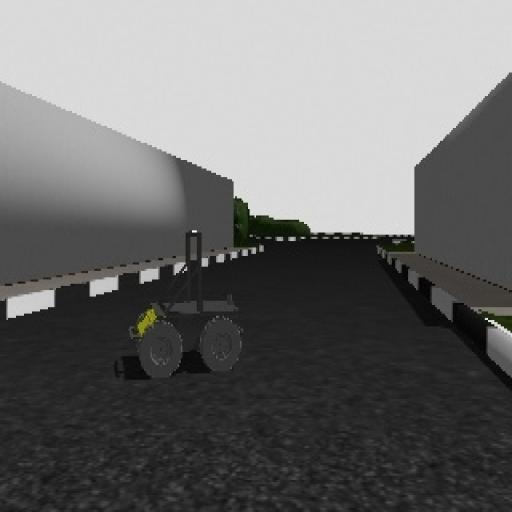huskya200: (120, 220, 256, 400)
